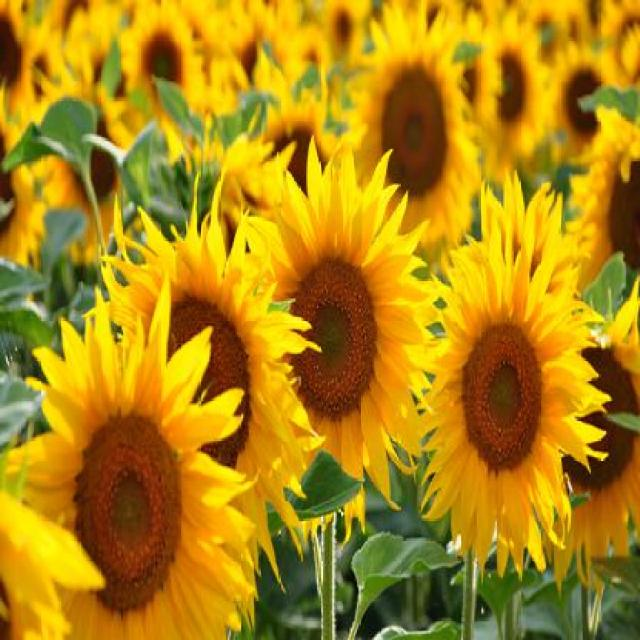sunflower: (22, 312, 272, 639), (242, 150, 438, 516), (418, 201, 599, 573)
